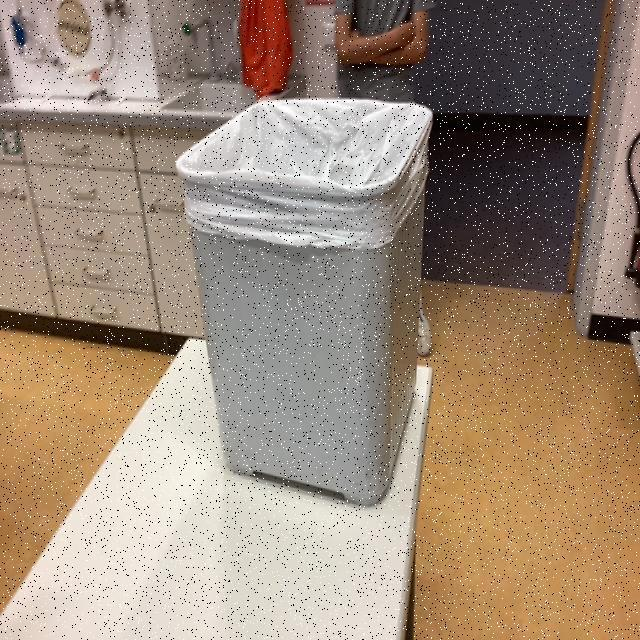garbage container: (168, 86, 452, 518)
